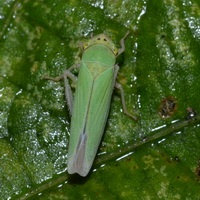insect: (45, 31, 128, 176), (158, 96, 177, 117), (186, 107, 195, 118), (196, 159, 199, 176)
